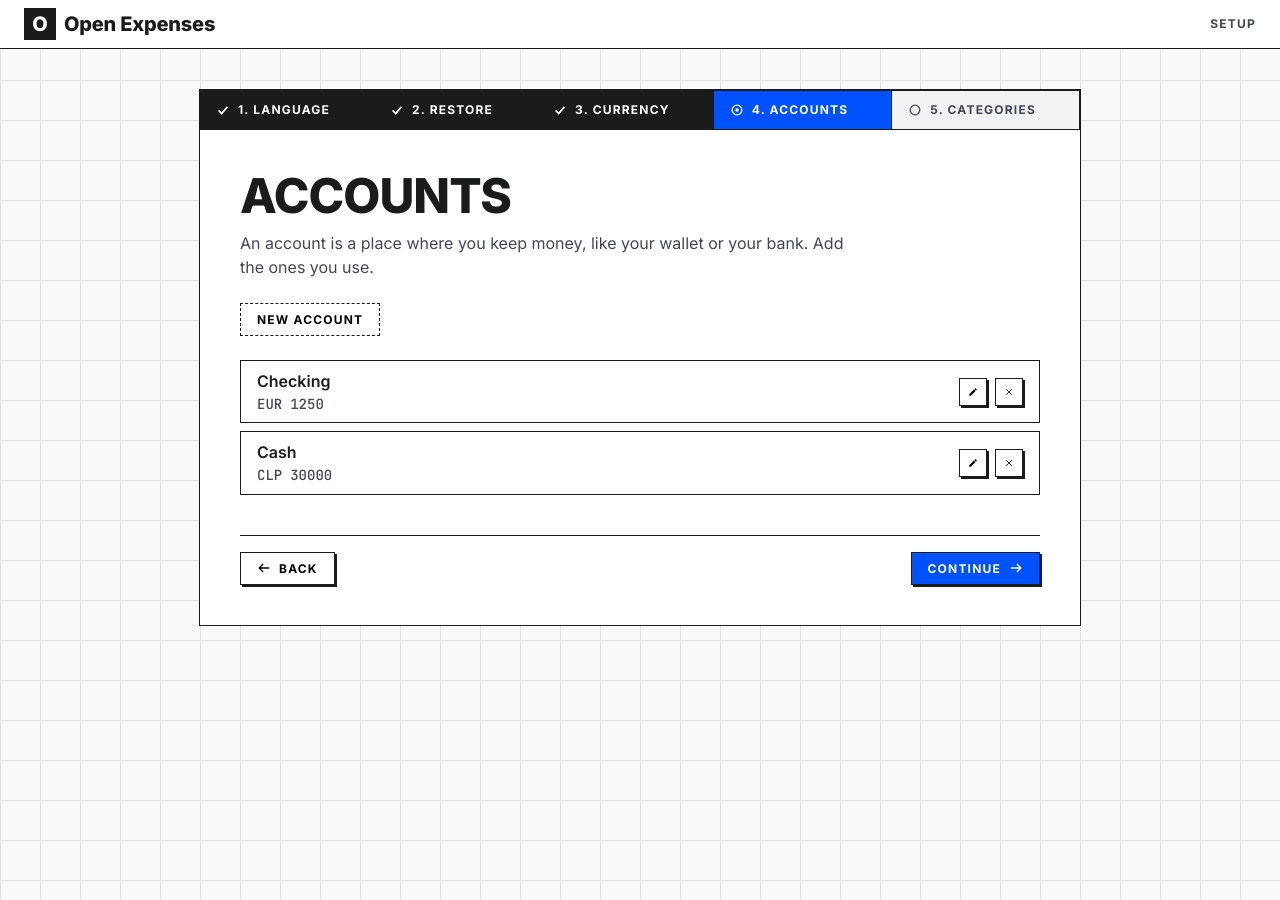
it: OnboardingComponent › opens the inline edit state from the pencil; tick saves
The width and height of the screenshot is (1280, 900).
Click the button named "Edit account" in the row of "Checking". click: point(973, 392)
box: [959,378,987,406]
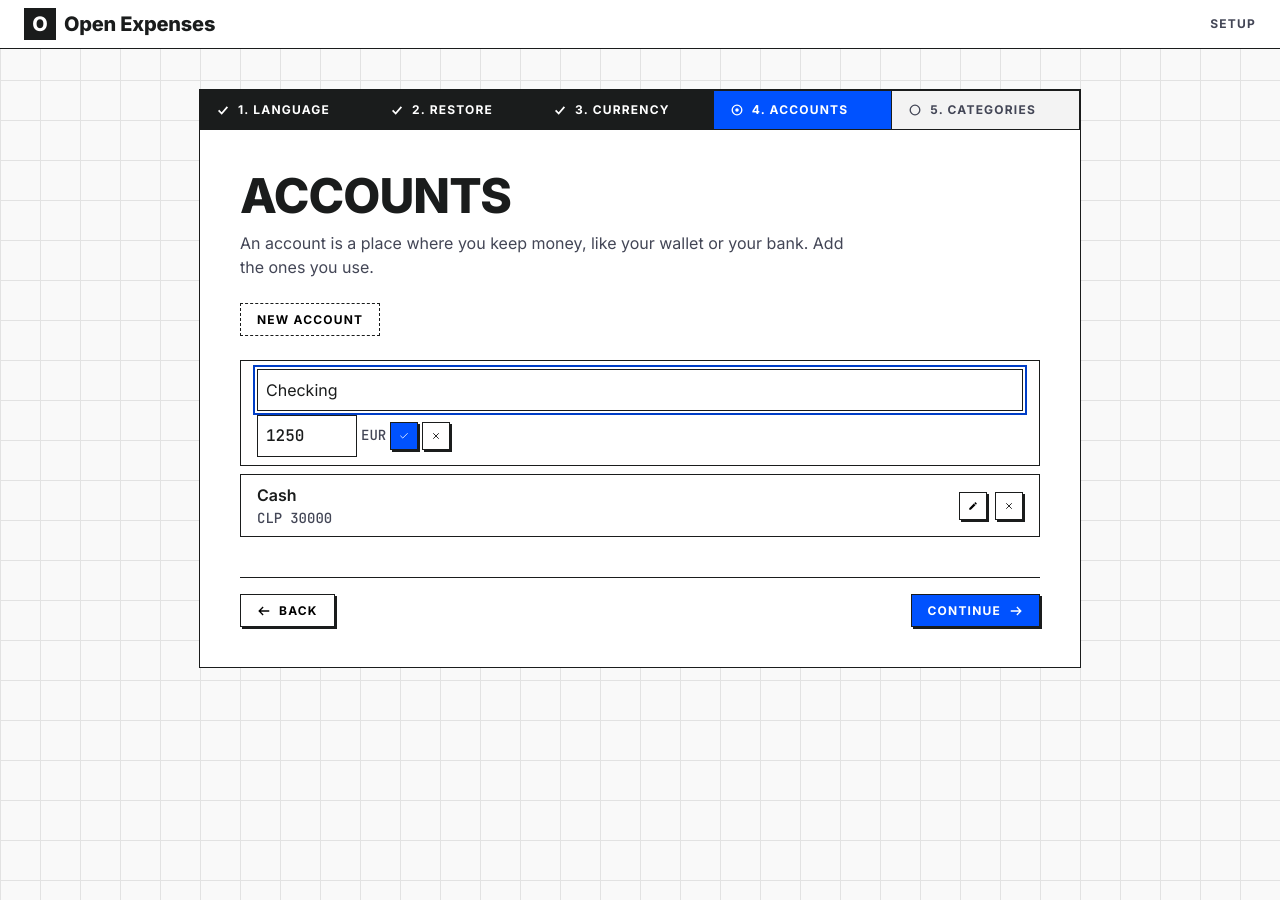
Expected: the element with class "edit-state" is shown, [257,369,1023,457]
Result: the field named "Account name" holds "Checking"
Result: the number field named "Opening balance" holds "1250" at [257,415,357,457]
Replace the text in the field named "Account name" with "Wallet". click: point(640, 390)
box: [257,369,1023,411]
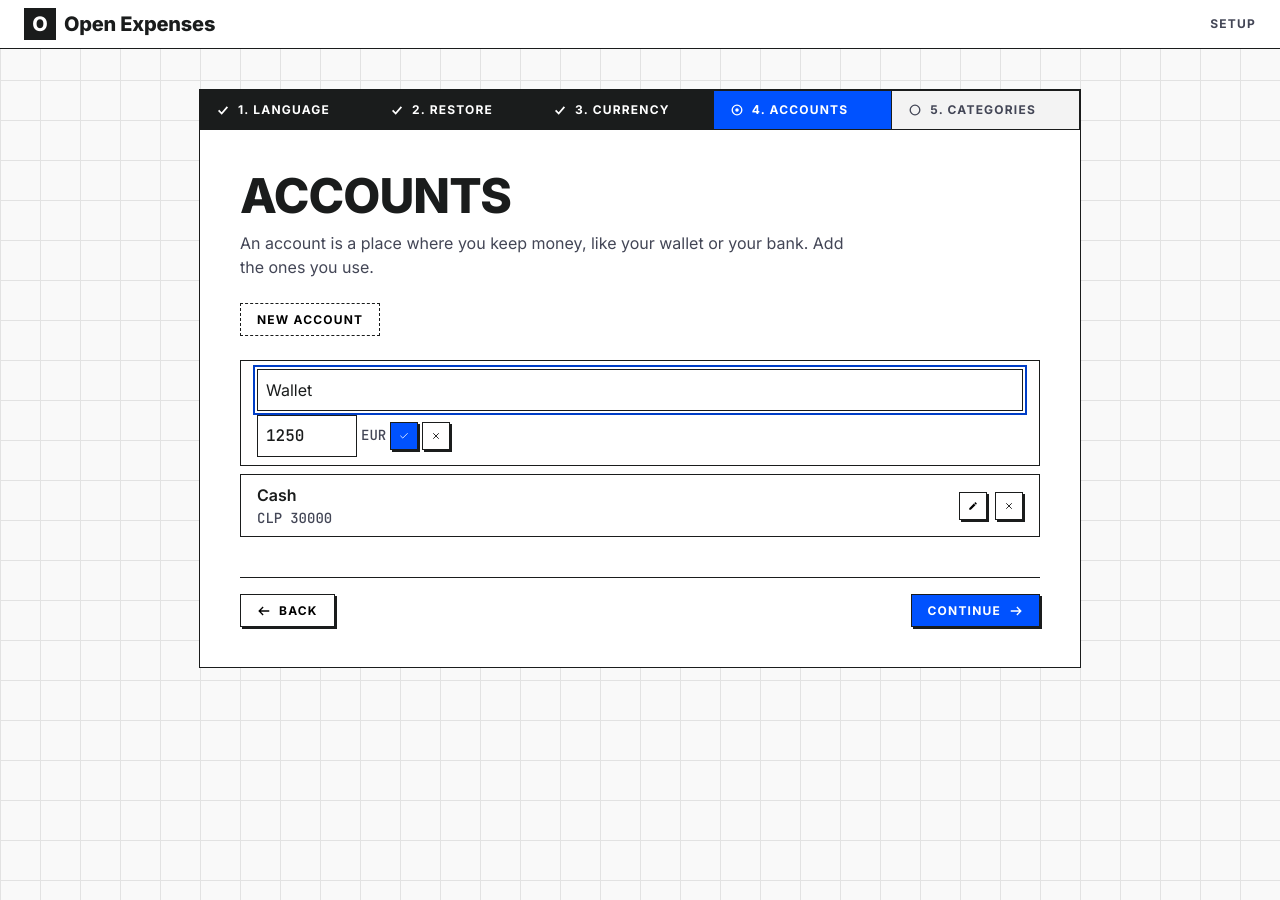
Replace the text in the number field named "Opening balance" with "250000". click: point(307, 436)
box: [257,415,357,457]
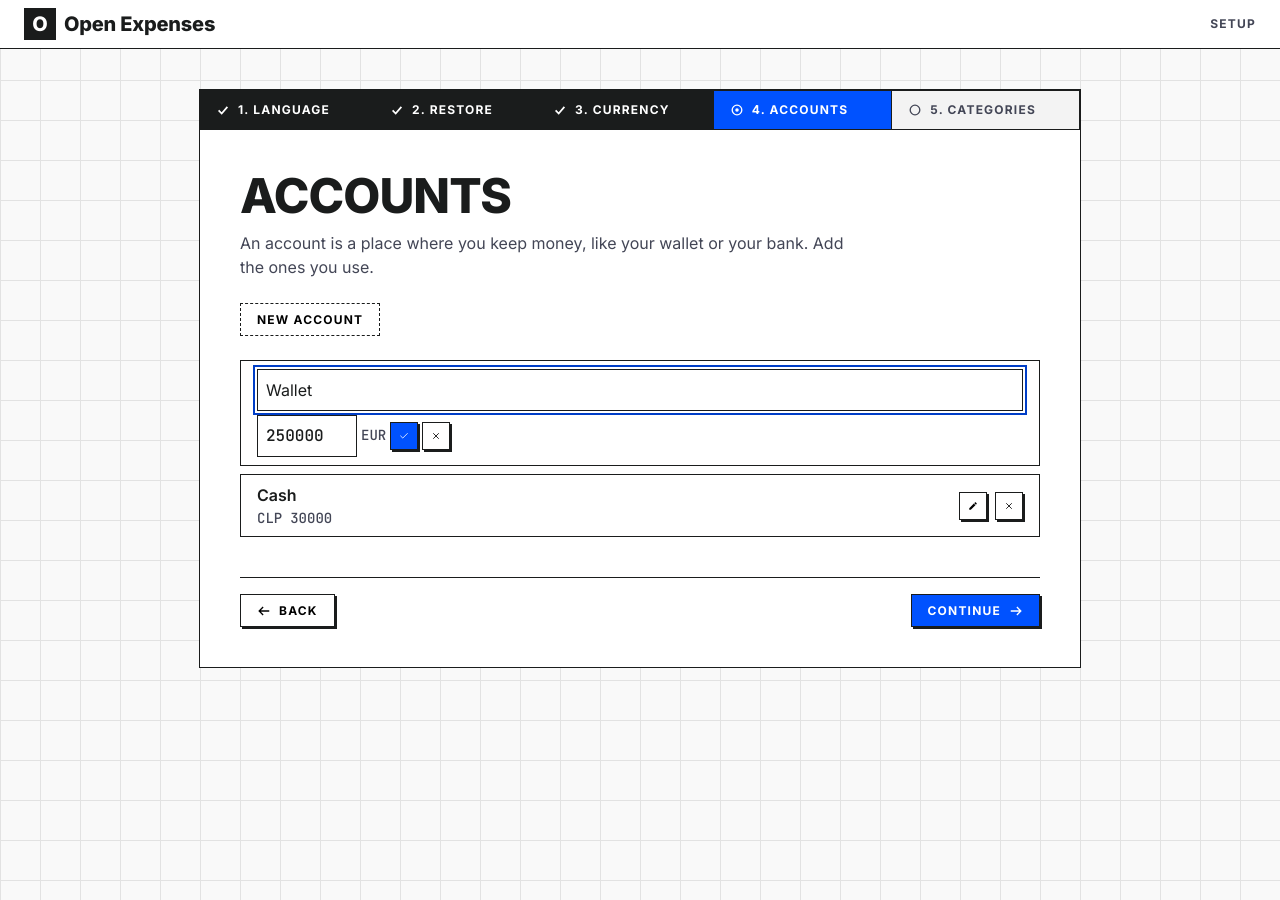
Click the button named "Save changes". click: point(404, 436)
box: [390,422,418,450]
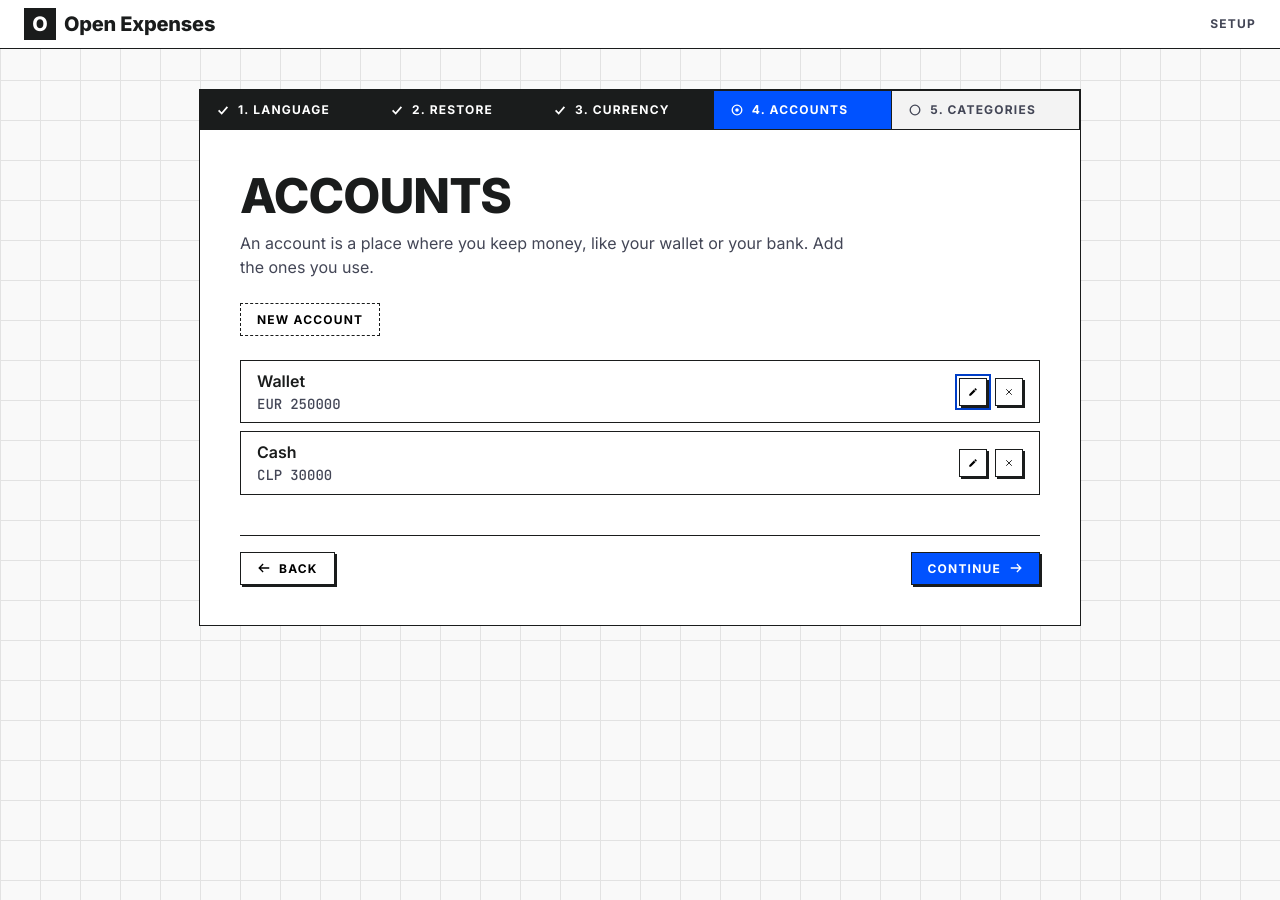
Result: the element with class "edit-state" is gone
Result: the text with class "account-name" reads "Wallet" at [257,371,305,391]
